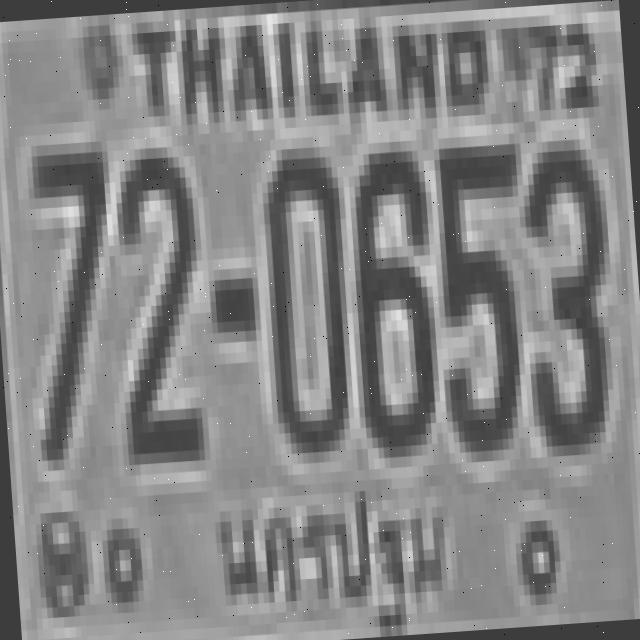0: (253, 140, 350, 450)
2: (106, 135, 205, 455)
3: (511, 138, 614, 447)
5: (427, 139, 530, 448)
6: (340, 140, 438, 448)
7: (19, 141, 122, 461)
NakhonPathom: (201, 451, 458, 640)
